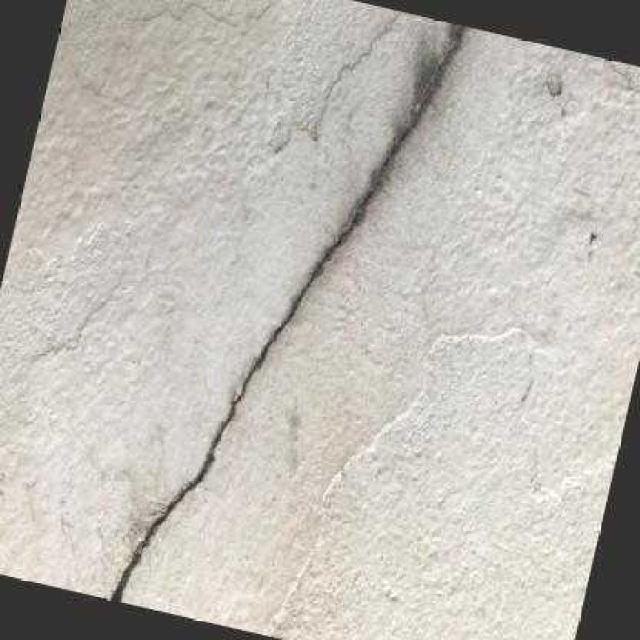D00: (106, 23, 467, 602)
